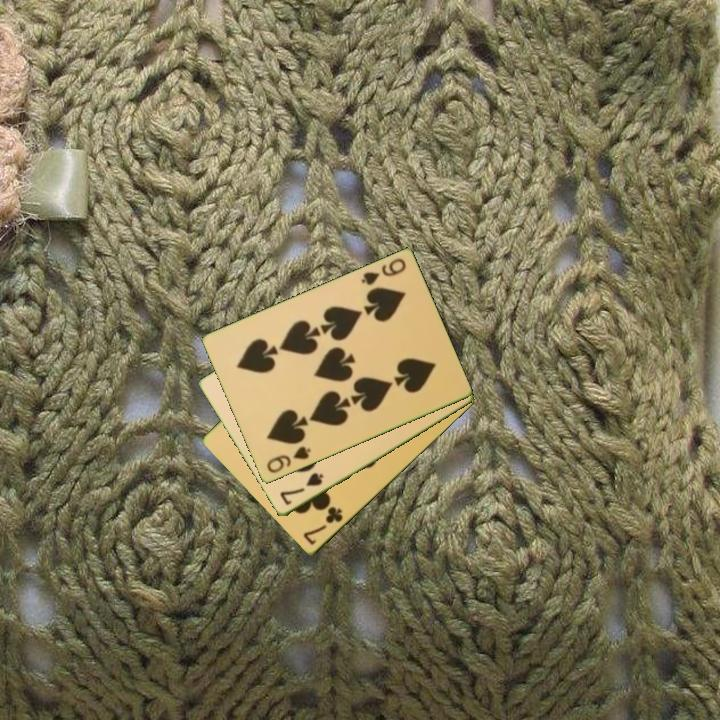7c: (300, 503, 346, 548)
7s: (276, 469, 327, 508)
9s: (358, 255, 409, 289), (263, 443, 314, 476)
